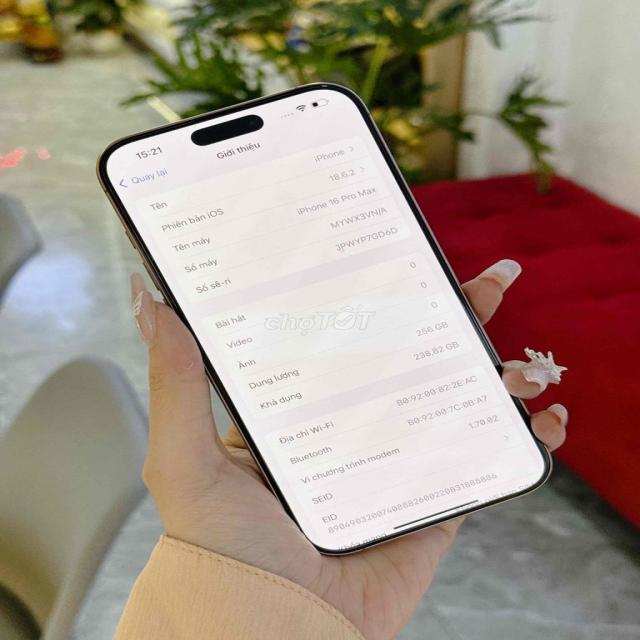gen_16: (98, 83, 549, 555)
